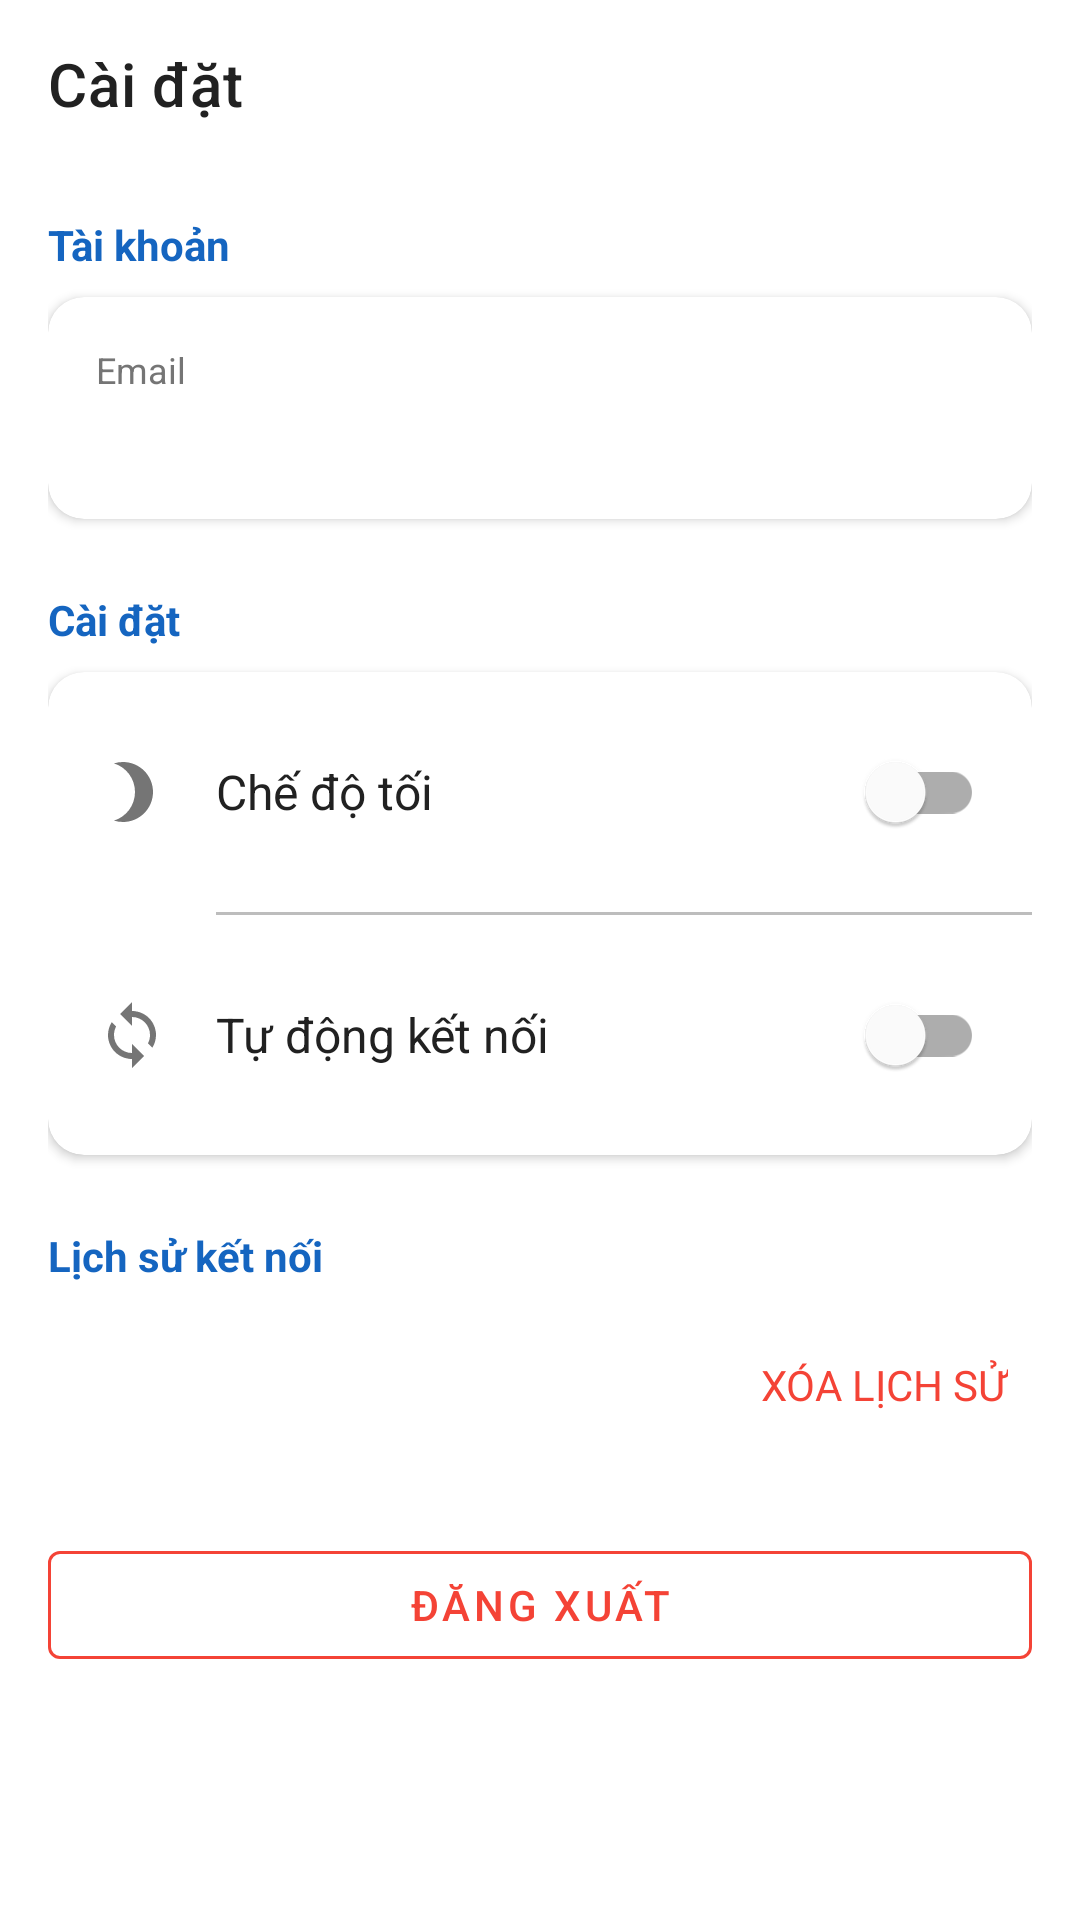

Screen size 1080x1920. Icon name, then its center in pixels as (x=x, y=y):
auto connect: (x=132, y=1035)
mode: (x=133, y=792)
